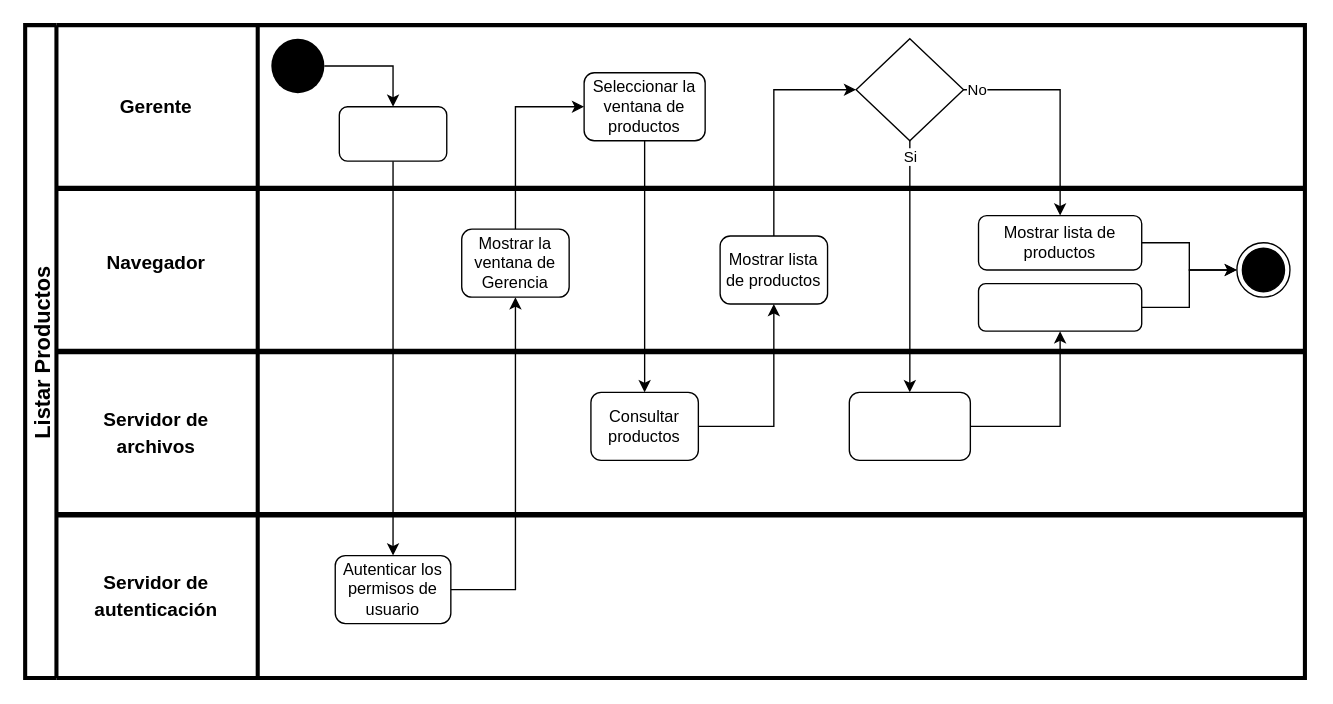
The diagram is 1333 pixels wide and 704 high, and some of its shapes have lost their labels. The shapes that lost their labels are listed below. From the top down, each one's centre as x and y in pixels, then its label:
At [909,89]: "Aplicar filtro".
At [392,133]: "Ingresar su usuario".
At [1059,306]: "Muestra la lista de productos".
At [909,425]: "Consultar productos con filtro".
